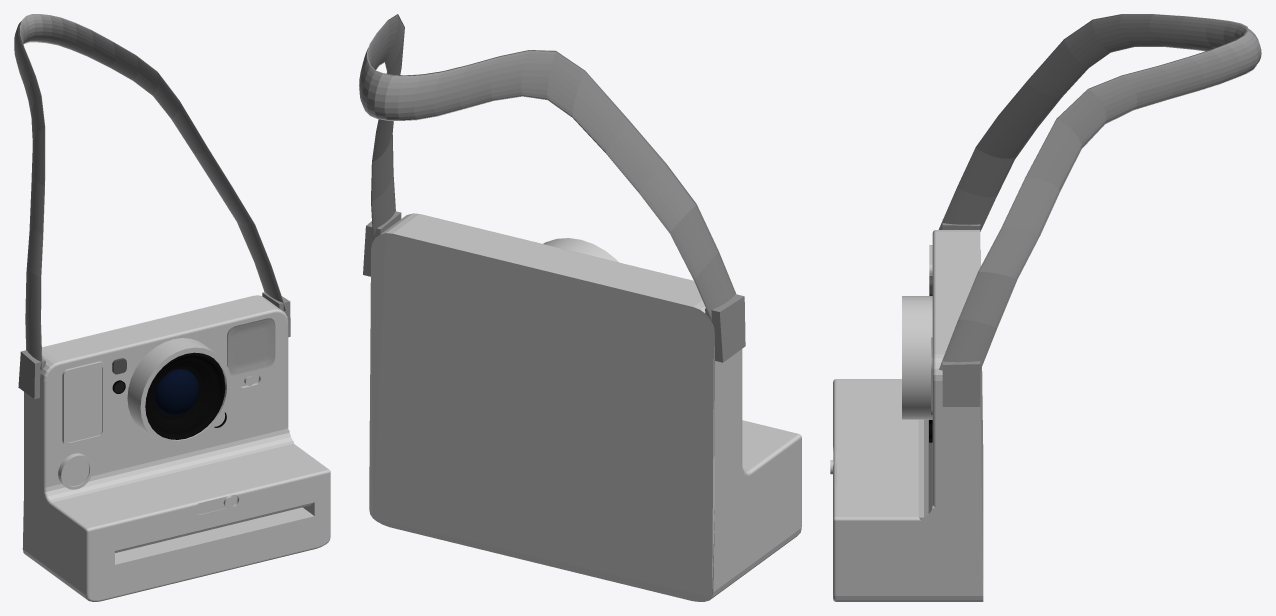
File: PolaroidCam.FBX
3 views of the same model, side by side, from view 1: azimuth 30°, elevation 25°; view 2: azimuth 150°, elevation 25°; view 3: azimuth 270°, elevation 25° (orthographic). The views are drawn at different scales.
Visible parts, largest first — view 1: polaroid_blanca, PolaroidCam, CameraStrap, lenscover, lens_cap, Plane_001, Plane_002, lens, red_button, switch2; view 2: polaroid_blanca, CameraStrap, lens_cap; view 3: polaroid_blanca, CameraStrap, lens_cap, PolaroidCam.
Part boxes in pixels (x1=…): polaroid_blanca: x1=22, y1=295, x2=328, y2=599; PolaroidCam: x1=85, y1=469, x2=330, y2=601; CameraStrap: x1=14, y1=14, x2=290, y2=399; lenscover: x1=145, y1=352, x2=225, y2=439; lens_cap: x1=127, y1=338, x2=231, y2=445; Plane_001: x1=62, y1=361, x2=105, y2=445; Plane_002: x1=227, y1=317, x2=275, y2=375; lens: x1=155, y1=369, x2=198, y2=415; red_button: x1=58, y1=453, x2=92, y2=489; switch2: x1=195, y1=496, x2=235, y2=514; polaroid_blanca: x1=369, y1=213, x2=801, y2=601; CameraStrap: x1=359, y1=14, x2=745, y2=362; lens_cap: x1=543, y1=238, x2=618, y2=262; polaroid_blanca: x1=836, y1=230, x2=983, y2=601; CameraStrap: x1=938, y1=14, x2=1261, y2=406; lens_cap: x1=902, y1=296, x2=932, y2=419; PolaroidCam: x1=833, y1=379, x2=836, y2=601.
Bounding box in the file's own units: 0.4127 × 0.6648 × 0.5125.
